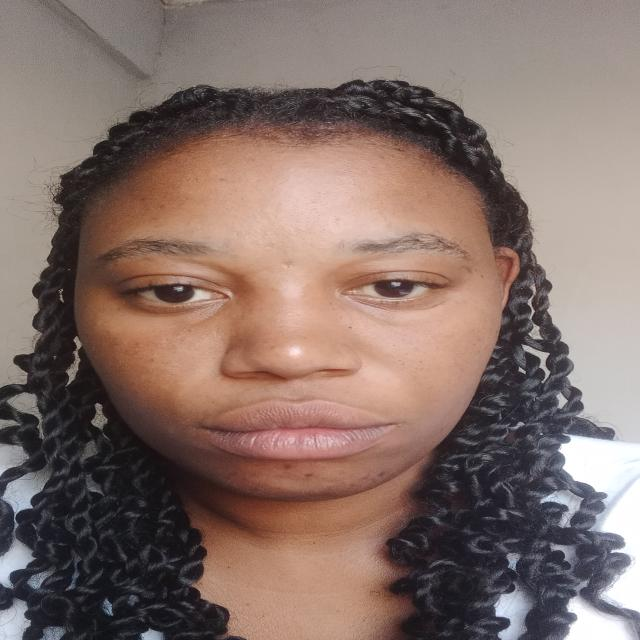Acne: (118, 333, 190, 352)
Blackheads: (251, 216, 332, 247), (387, 355, 430, 367)
Eyebags: (335, 292, 460, 326), (120, 297, 233, 324)
